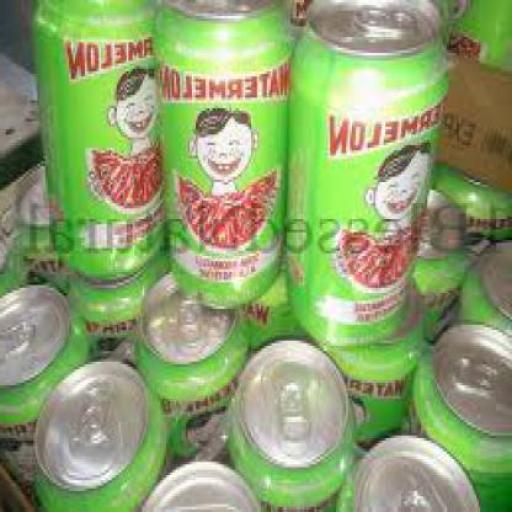metal: (284, 1, 450, 340), (156, 0, 294, 304), (33, 0, 160, 286), (231, 332, 356, 510), (138, 272, 251, 457), (402, 325, 512, 511), (38, 354, 168, 509), (10, 280, 87, 478), (338, 433, 488, 510), (415, 188, 469, 338), (142, 456, 273, 510), (460, 240, 511, 338), (448, 0, 511, 63)
